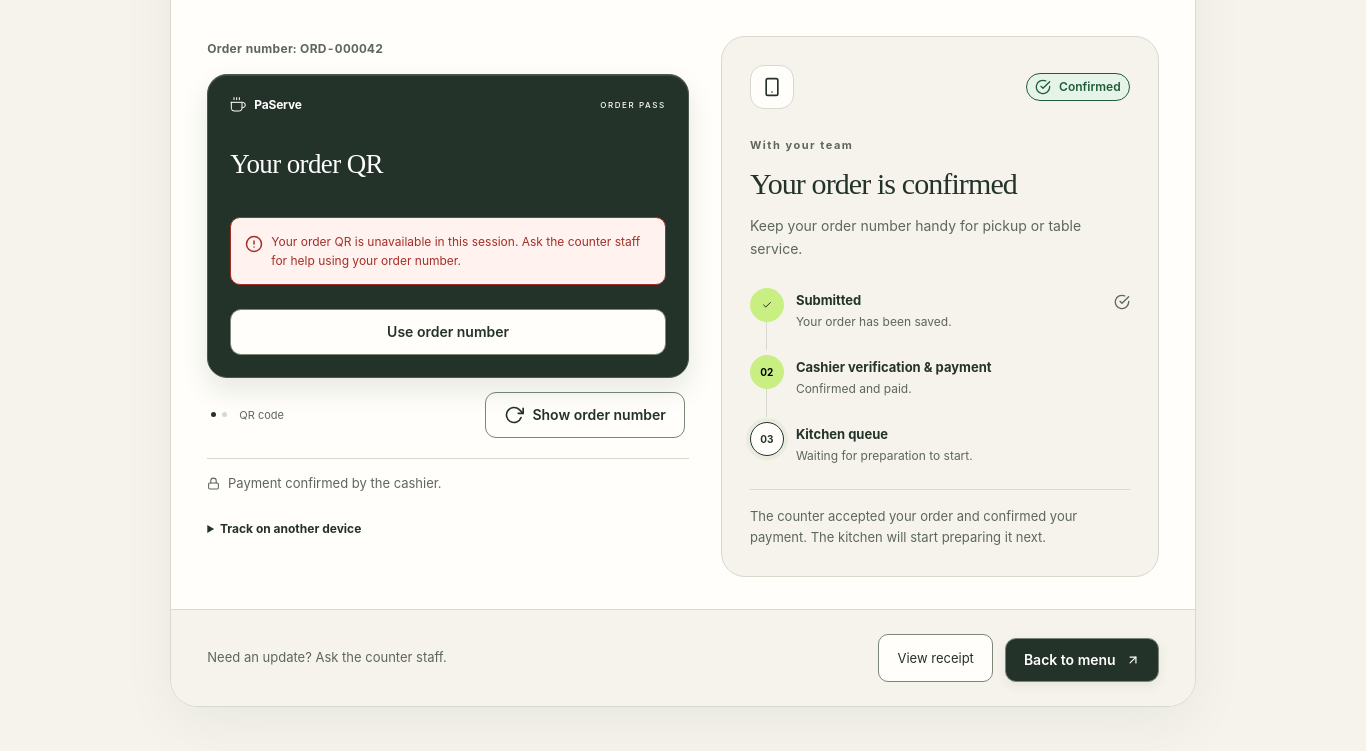
Test case: navigates from tracking to the dedicated receipt and performs a protected read
(page scrolled)
Click the link "View receipt".
click(936, 658)  # box 878,634 -> 993,682
(page scrolled)
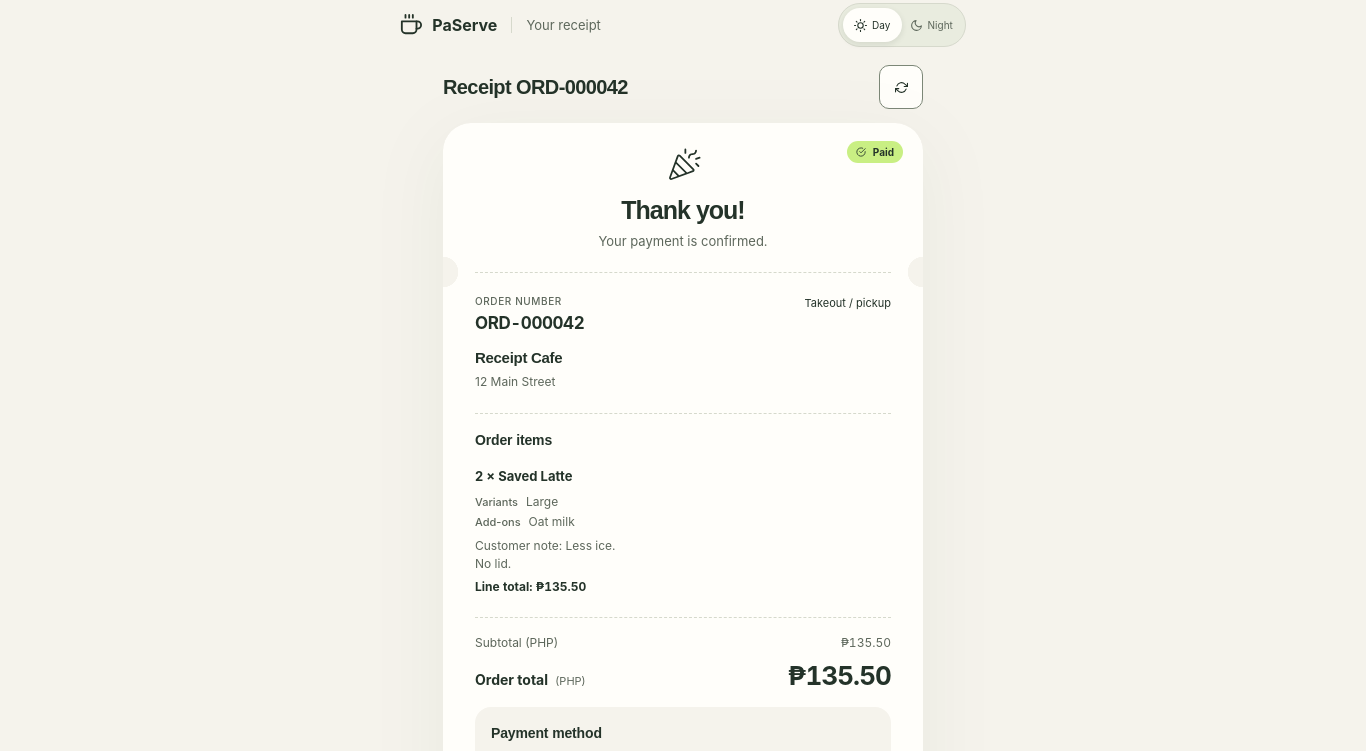
Expected: the heading "Receipt ORD-000042" is shown, 443,76 -> 628,98
